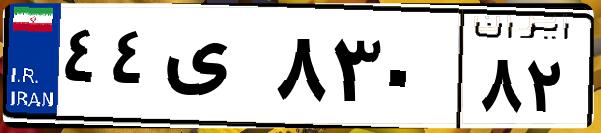0: (385, 28, 445, 110)
2: (525, 38, 570, 115)
3: (330, 28, 385, 110)
4: (57, 26, 110, 100), (110, 28, 158, 98)
8: (270, 28, 330, 110), (475, 38, 525, 113)
ی: (158, 20, 270, 120)
